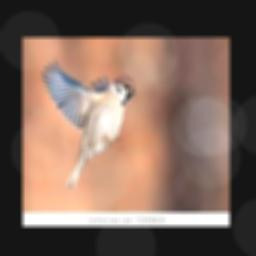Sparrow: (41, 58, 134, 187)
